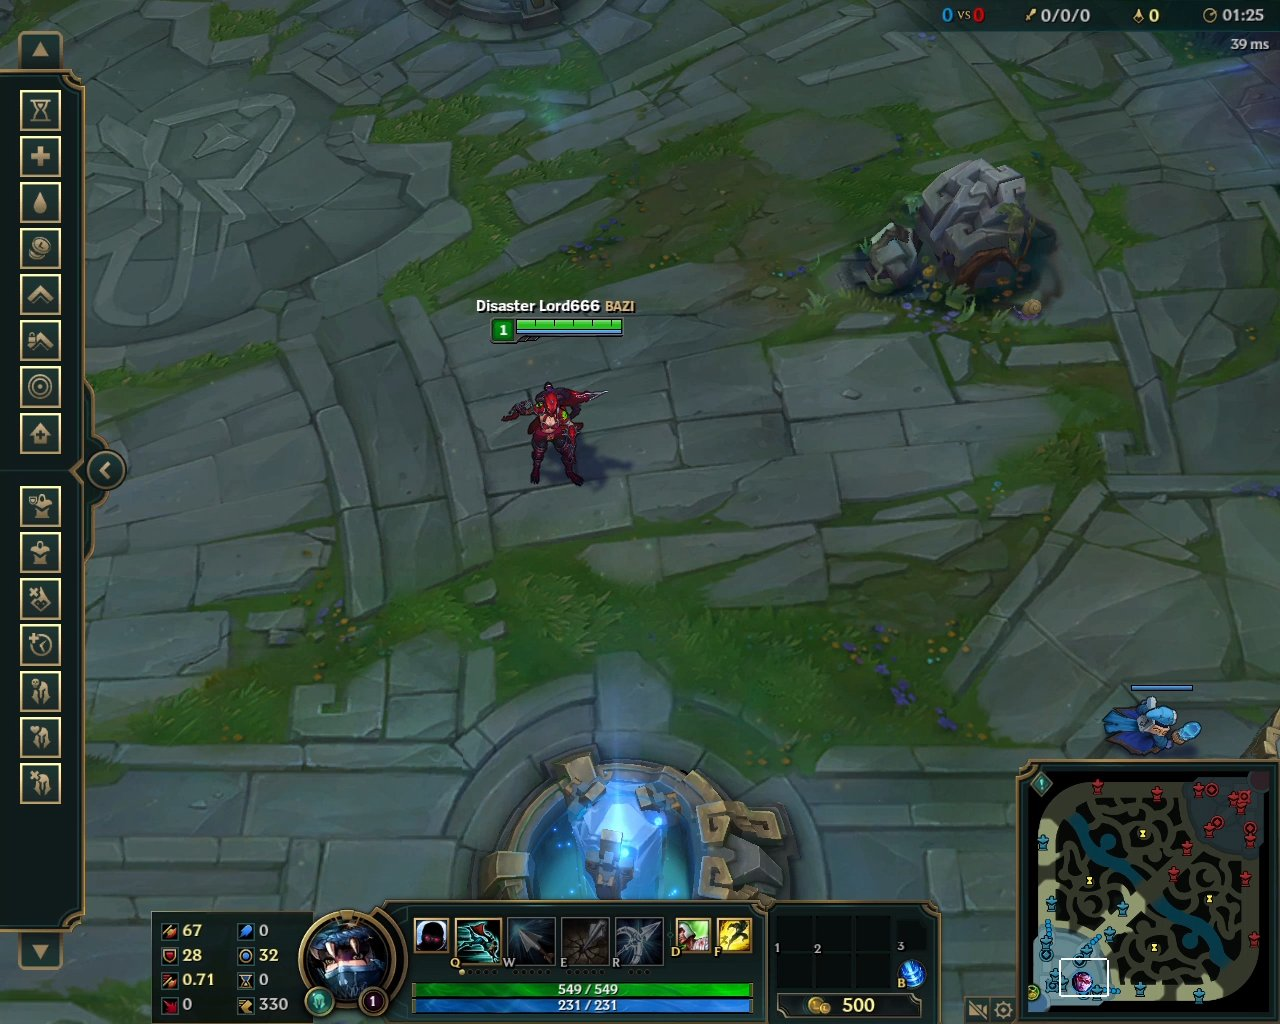Vayne: (493, 370, 615, 493)
